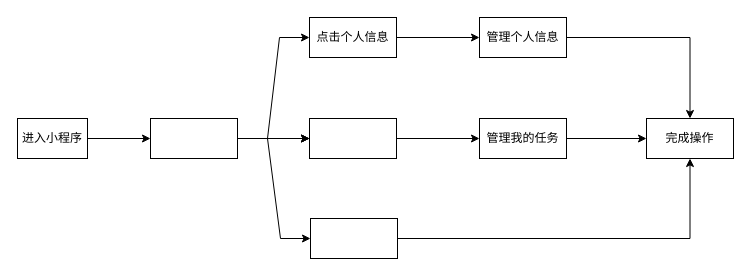
Image size: 751x276. Some labels were removed from this diagram. The centre of each missing label's shape, as x and y in pixels:
"查看我的个人收益" goes at point 354,238.
"点击我的任务" goes at point 352,138.
"进入我的" goes at point 194,138.
